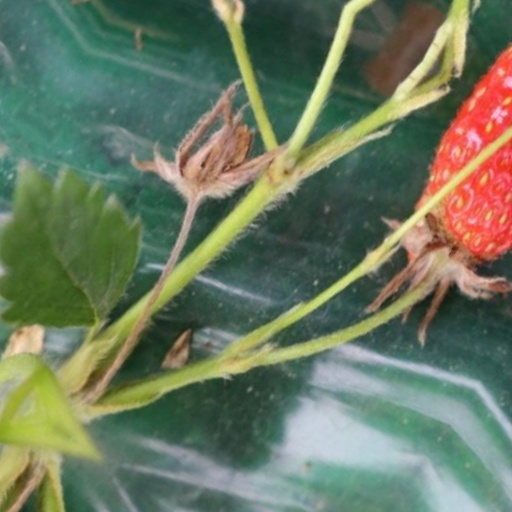Gray Mold: (292, 229, 420, 393), (22, 273, 178, 392)
